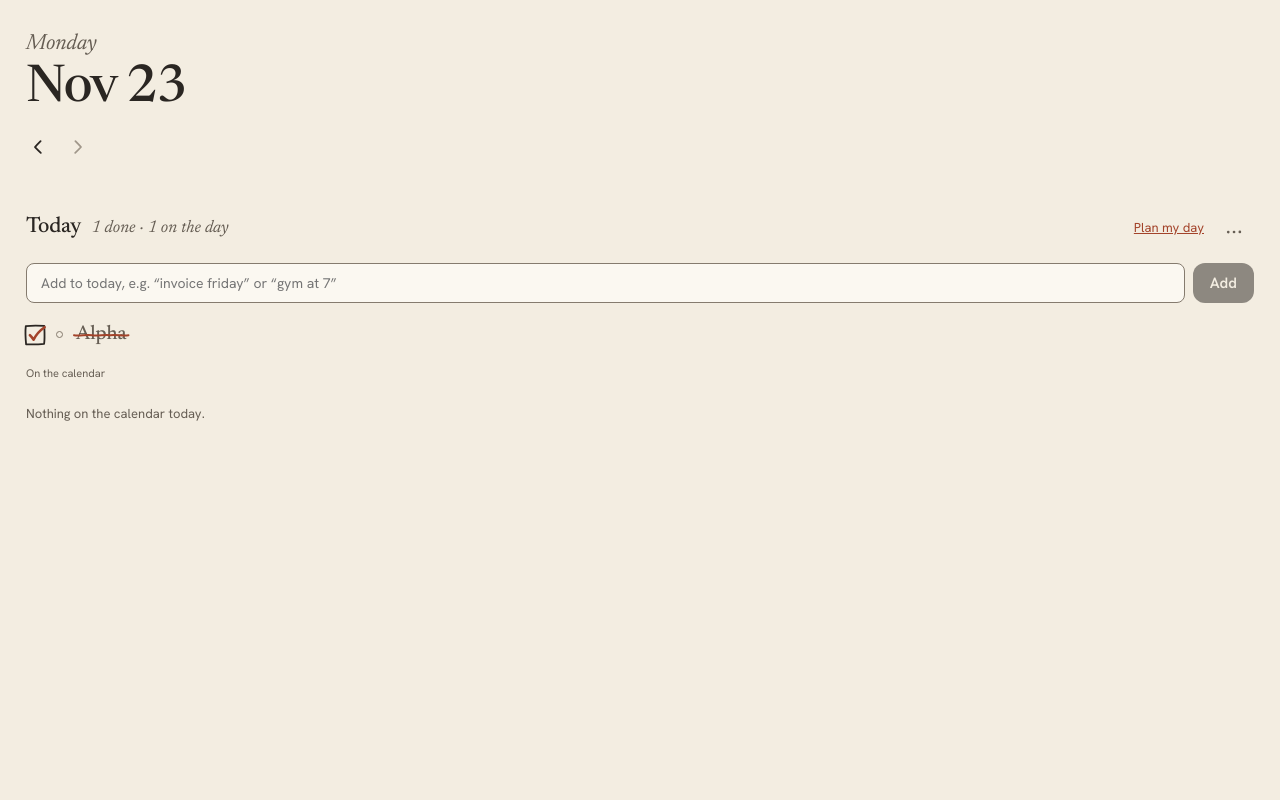
Test: 2026-08-25 — the shutdown ritual, step two › still says everything is done when everything was done
What coordinates should you click on to do the following:
click the button named "More actions"
I would click on:
 (1234, 228)
Its box is [1214,208,1254,248].
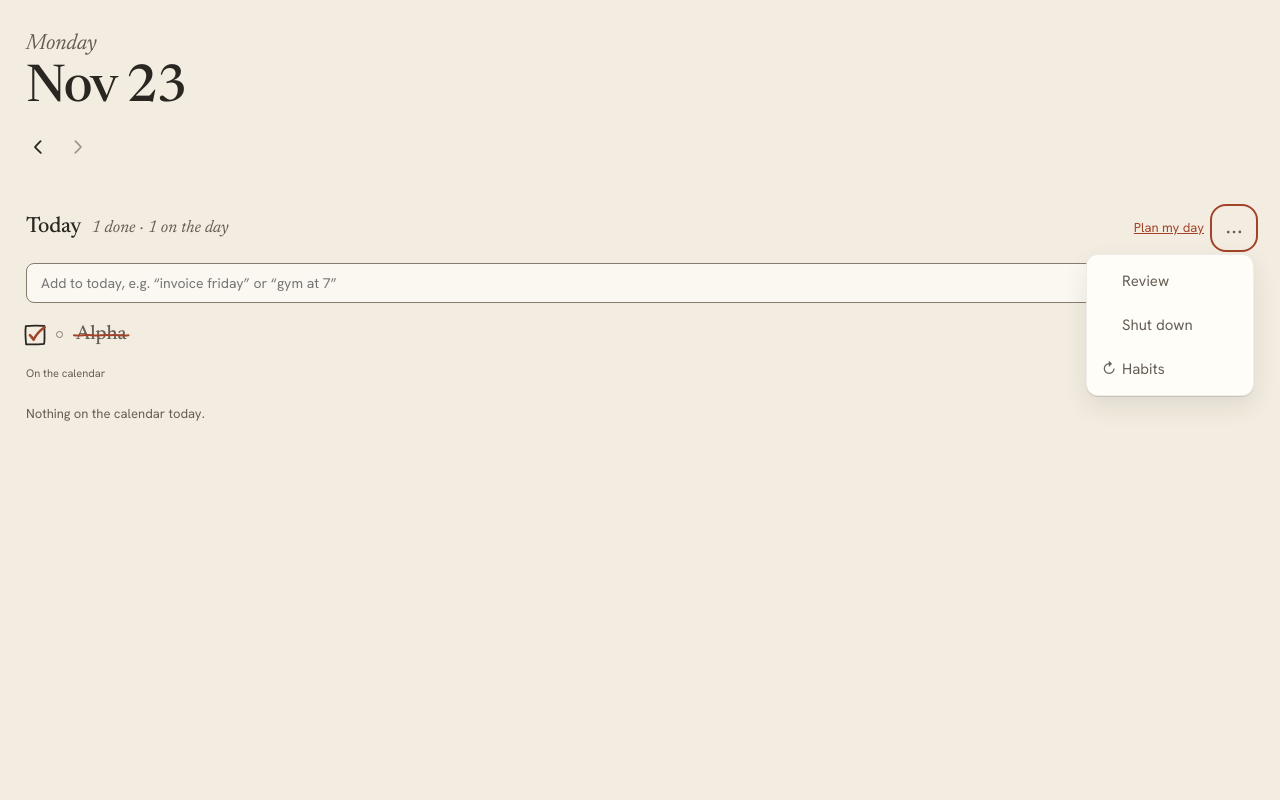
What coordinates should you click on to do the following:
click the button "Shut down"
I would click on:
 (1170, 325)
Its box is [1091,303,1249,347].
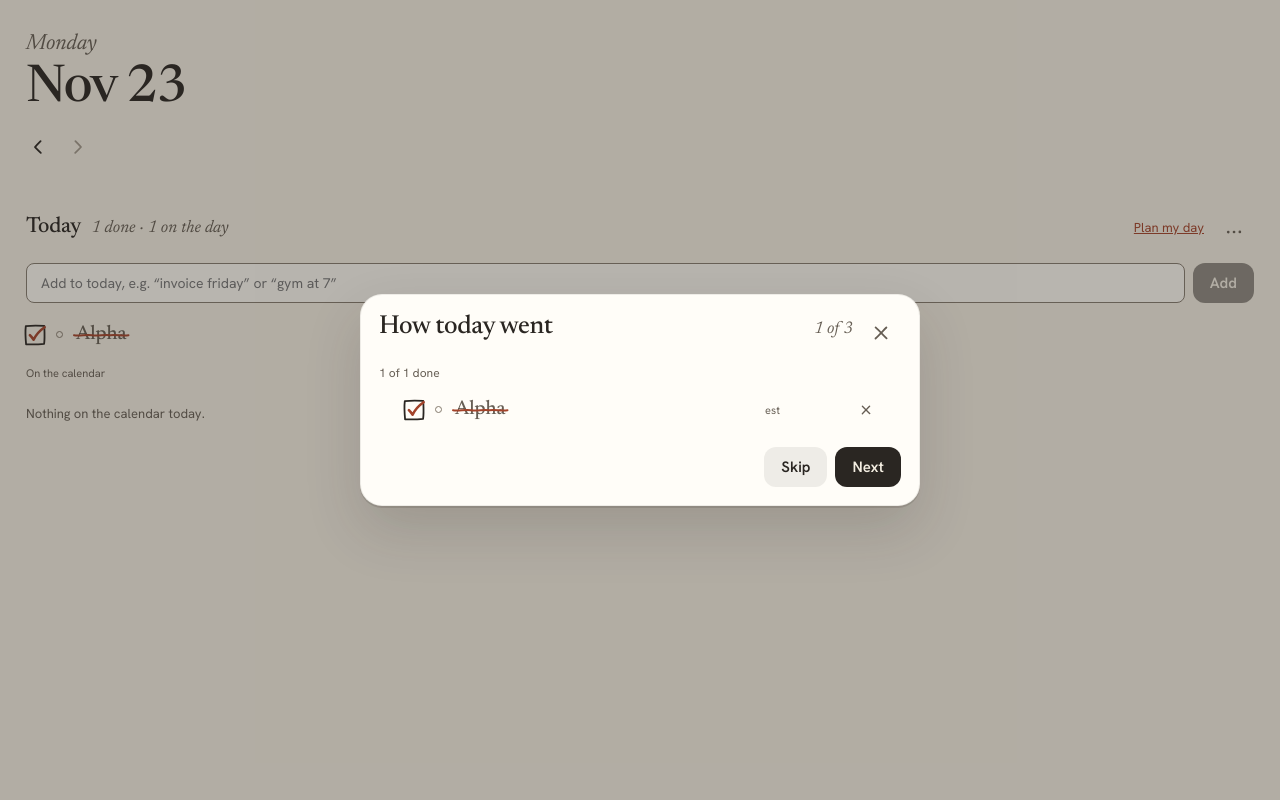
What coordinates should you click on to do the following:
click the button "Next"
I would click on:
 (868, 467)
Its box is [835,447,901,487].
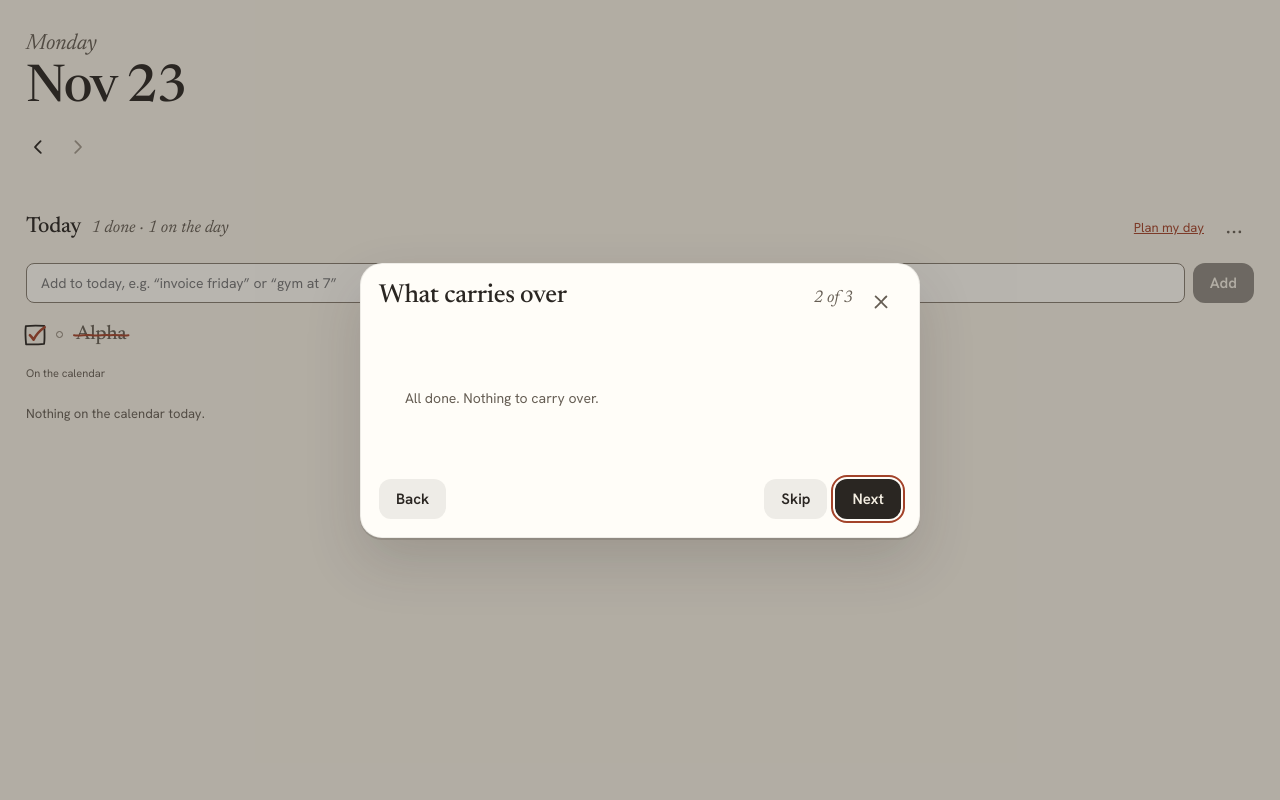
Now the element showing "All done. Nothing to carry over." is shown, box [405,388,599,406]
